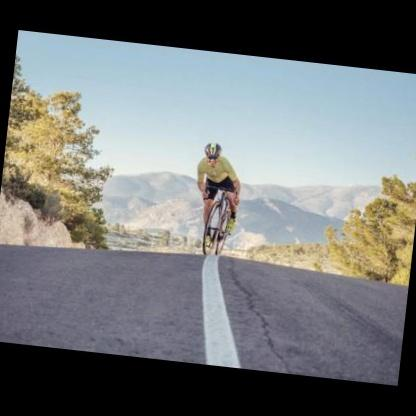Bicycle: (184, 180, 247, 260)
